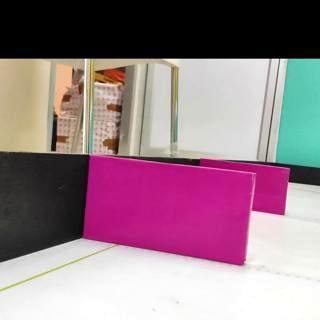xparking: (84, 156, 255, 266), (255, 164, 290, 215)
